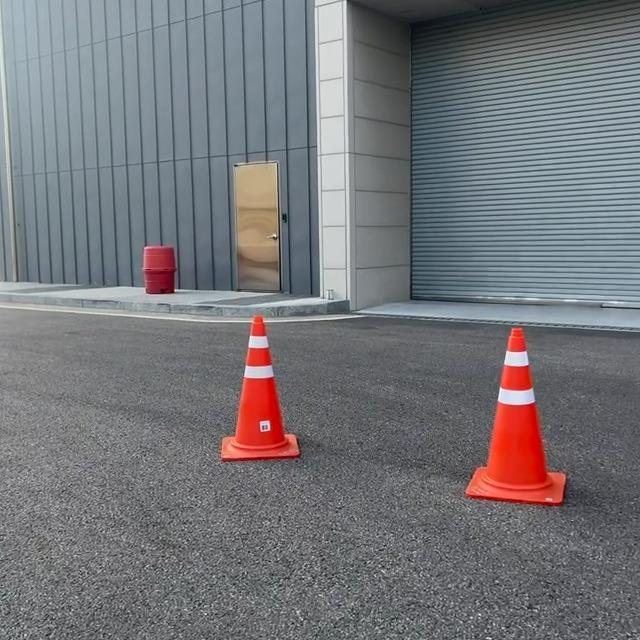fallen_object: (435, 316, 592, 520), (176, 303, 326, 467)
